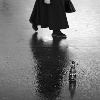beer: (68, 58, 80, 85)
